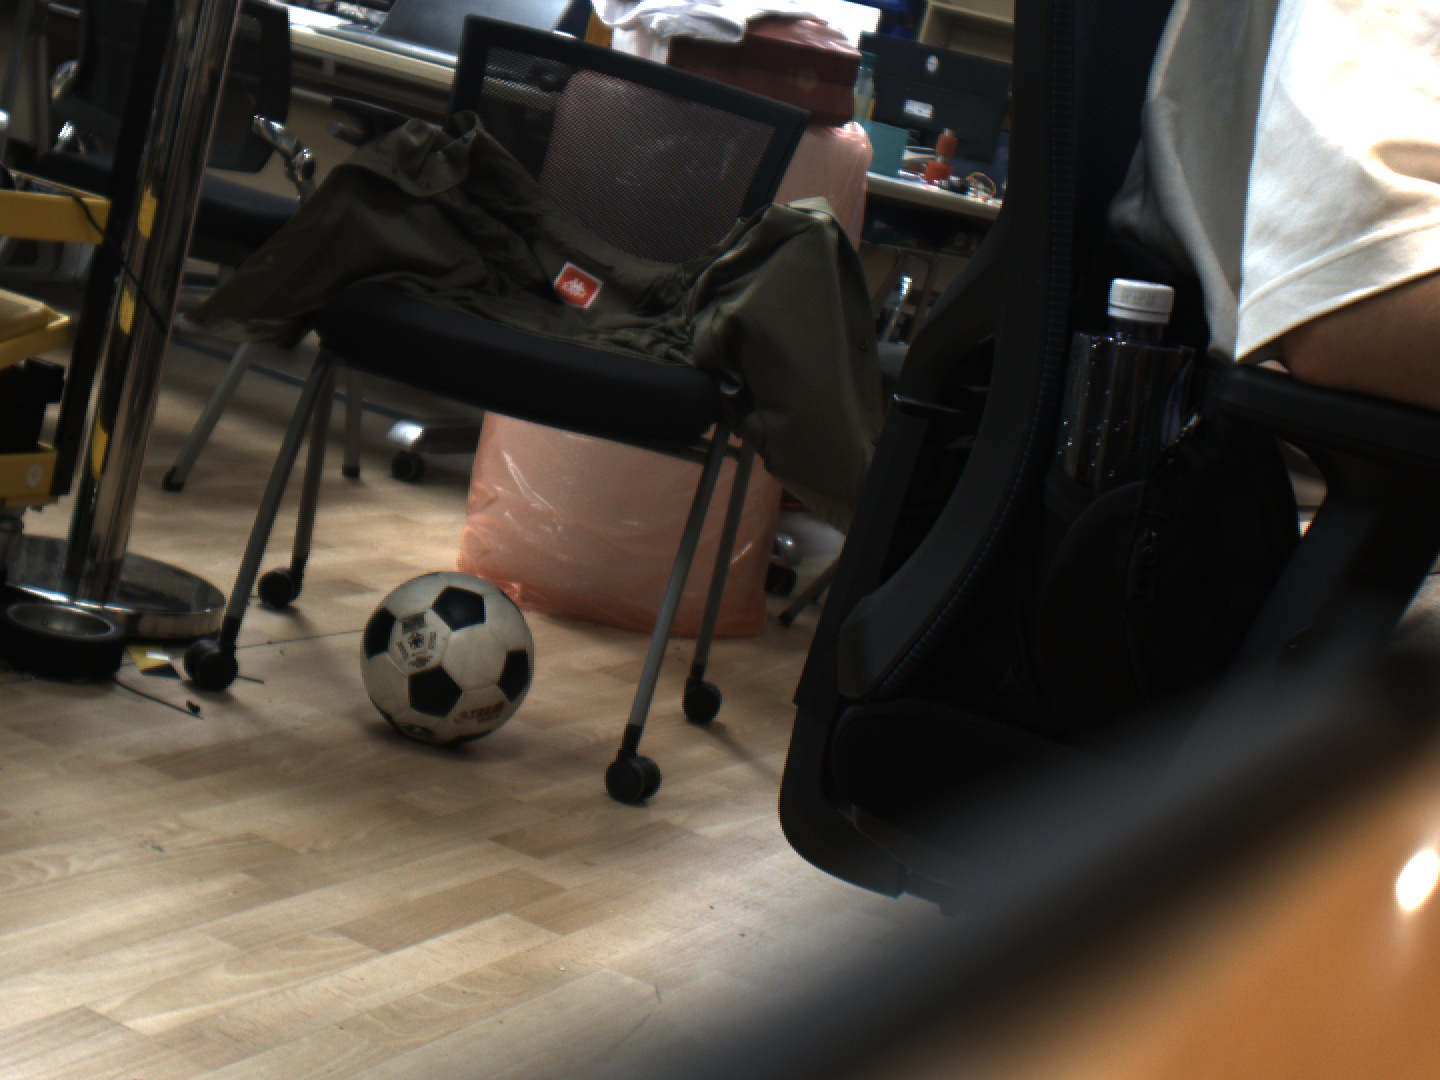ball: (331, 550, 547, 754)
